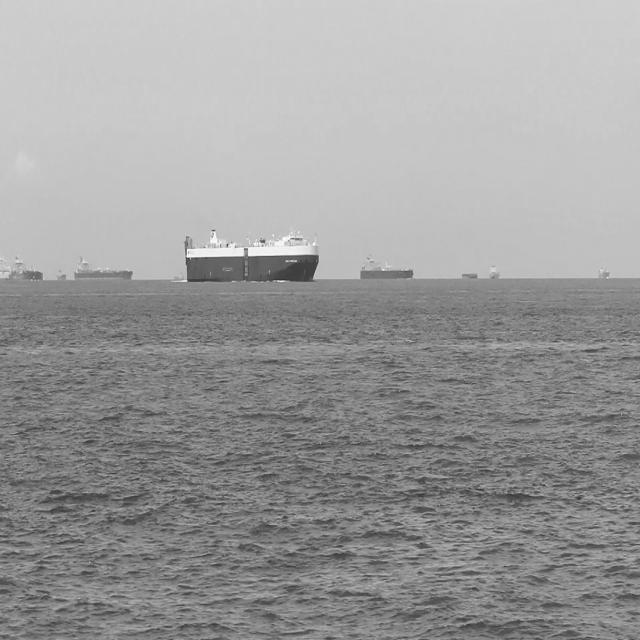ship: (184, 234, 319, 284), (359, 252, 414, 282), (71, 256, 131, 278), (8, 251, 44, 287), (0, 257, 15, 285), (483, 262, 499, 284), (458, 269, 477, 283), (54, 264, 66, 286), (598, 261, 610, 282)
